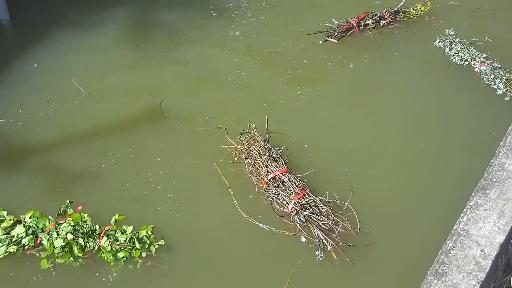twig: (202, 115, 377, 265), (0, 197, 171, 274), (309, 0, 452, 51), (430, 26, 512, 109)
